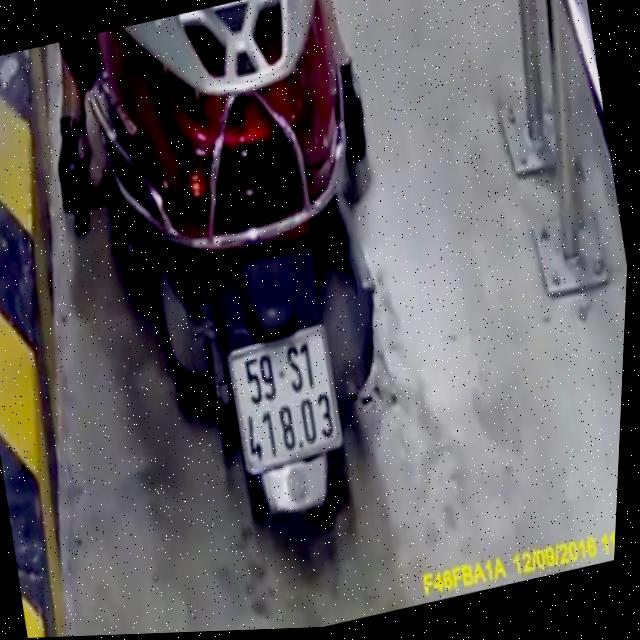motorcycle: (50, 0, 441, 566)
plate: (208, 317, 359, 481)
